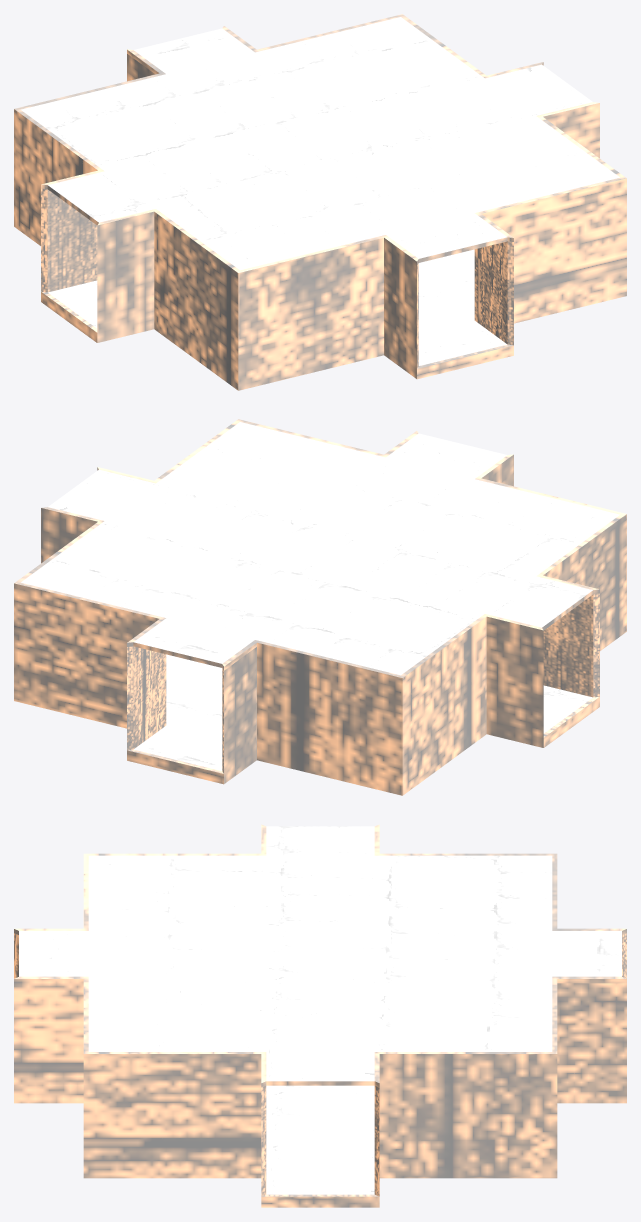
Rendered from room.glb.
The picture shows the model from 3 angles, top to bottom: view 1: azimuth 30°, elevation 25°; view 2: azimuth 150°, elevation 25°; view 3: azimuth 270°, elevation 25°; orthographic projection. The views are drawn at different scales.
Visible parts, largest first — view 1: Cube; view 2: Cube; view 3: Cube.
Boxes of the visible parts, x1,y1,x2,y2 form: Cube: (14, 14, 626, 390); Cube: (14, 419, 626, 795); Cube: (14, 824, 626, 1207).
Size of the model in its own units: 16.72 by 3.74 by 16.72.
